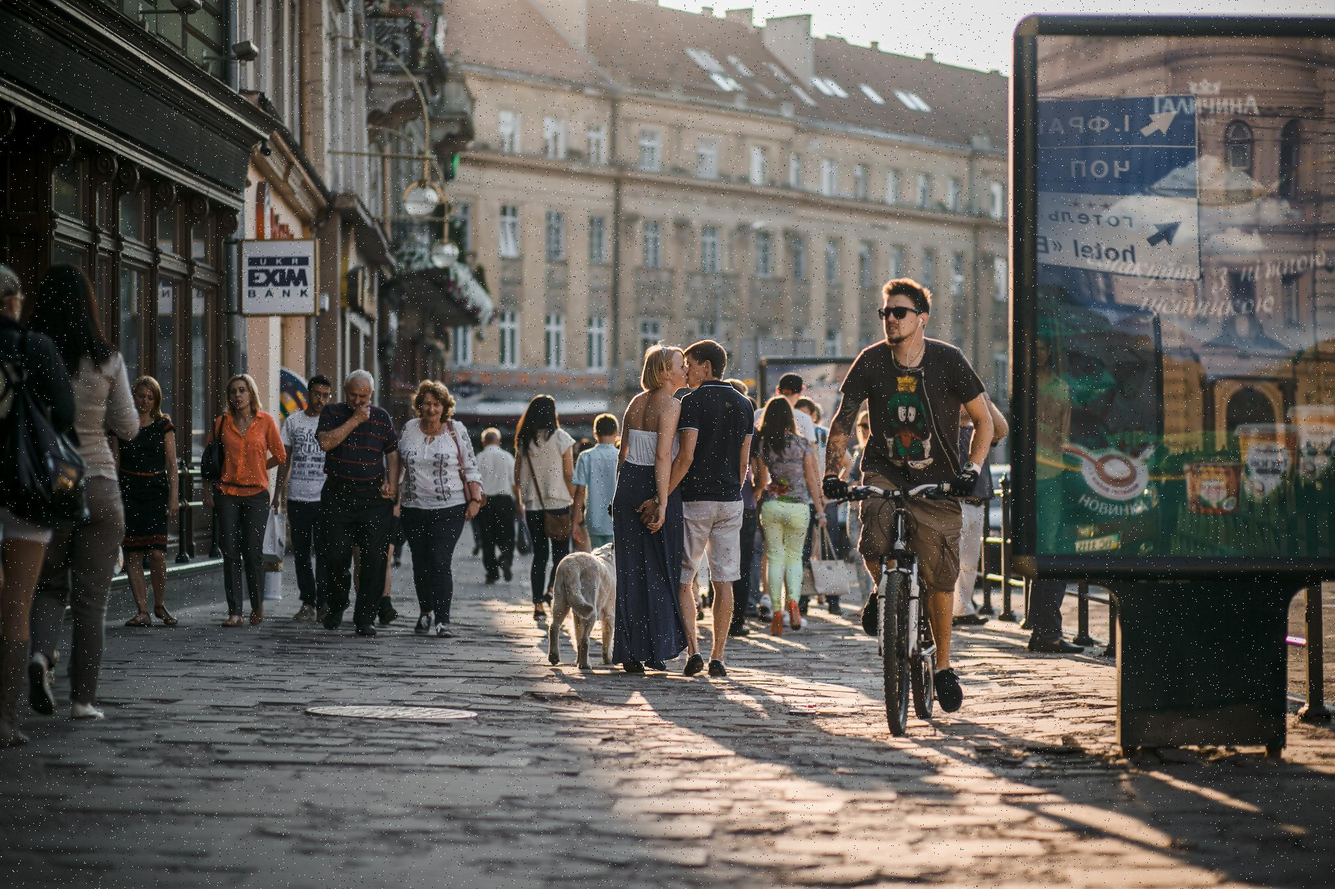pedestrian: (826, 275, 1011, 715), (36, 278, 136, 724), (0, 261, 89, 732), (679, 342, 754, 685), (613, 349, 692, 674), (391, 382, 485, 635), (321, 372, 406, 640), (201, 375, 286, 626), (748, 375, 826, 637), (114, 379, 185, 633), (278, 375, 340, 628), (515, 397, 590, 556), (467, 411, 520, 591), (573, 416, 624, 553)
